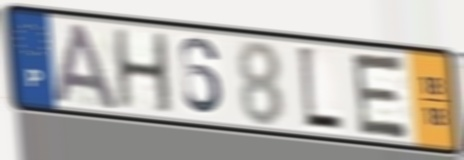6: (178, 35, 227, 118)
8: (233, 38, 287, 130)
A: (51, 20, 122, 112)
E: (350, 50, 413, 143)
H: (110, 27, 176, 117)
L: (295, 41, 346, 136)
